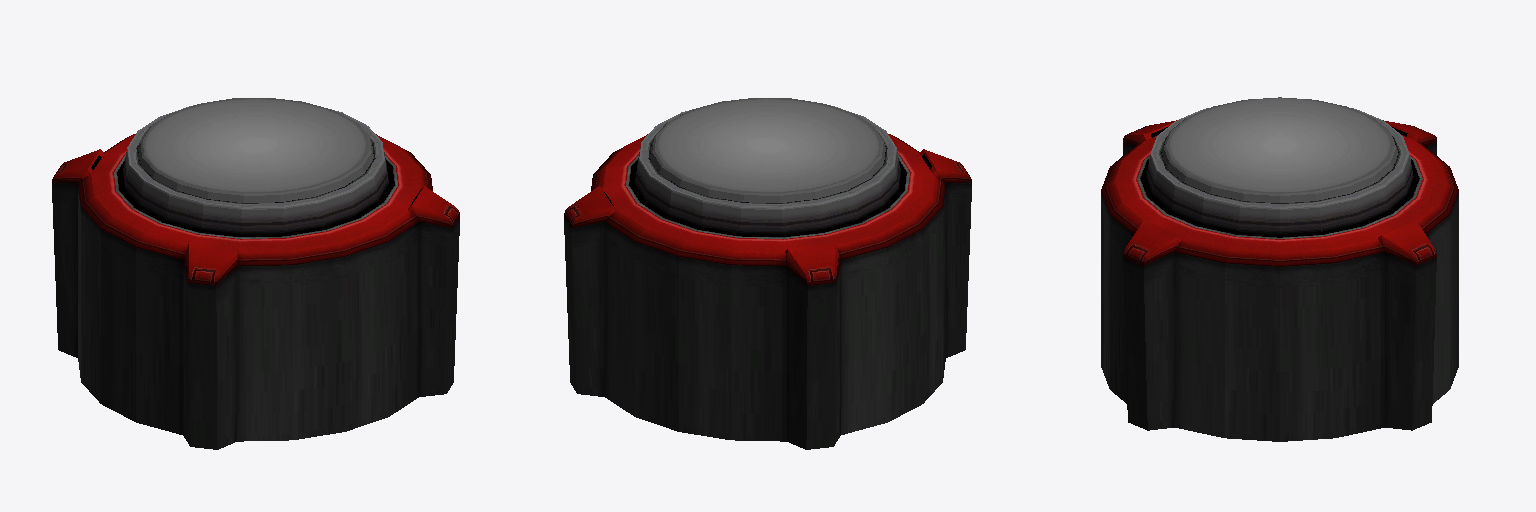
The picture shows the model from 3 angles: view 1: azimuth 30°, elevation 25°; view 2: azimuth 150°, elevation 25°; view 3: azimuth 270°, elevation 25°; orthographic projection.
Visible parts, largest first — view 1: cmn_obj_switch_HD_1_cmn_obj_switch_HD_1_mesh; view 2: cmn_obj_switch_HD_1_cmn_obj_switch_HD_1_mesh; view 3: cmn_obj_switch_HD_1_cmn_obj_switch_HD_1_mesh.
Part boxes in pixels (left/top/right/bottom): cmn_obj_switch_HD_1_cmn_obj_switch_HD_1_mesh: left=52, top=98, right=459, bottom=449; cmn_obj_switch_HD_1_cmn_obj_switch_HD_1_mesh: left=564, top=98, right=971, bottom=449; cmn_obj_switch_HD_1_cmn_obj_switch_HD_1_mesh: left=1101, top=97, right=1458, bottom=441.
Size of the model in its own units: 2 by 1.36 by 2.
3 materials, 3 textured.